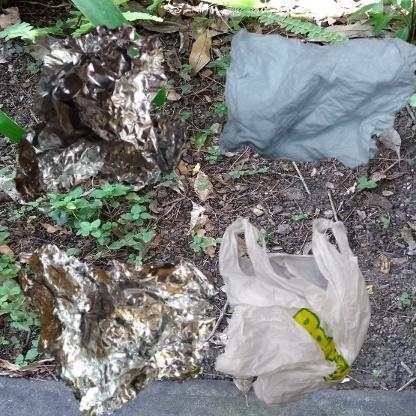aluminio: (10, 213, 239, 416), (10, 10, 207, 229)
bolsa: (213, 213, 375, 412)
papel: (213, 10, 416, 190)
